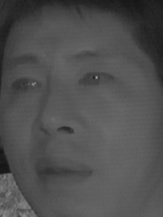eye: (78, 69, 118, 94), (7, 73, 46, 97)
mouth: (33, 151, 95, 191)
